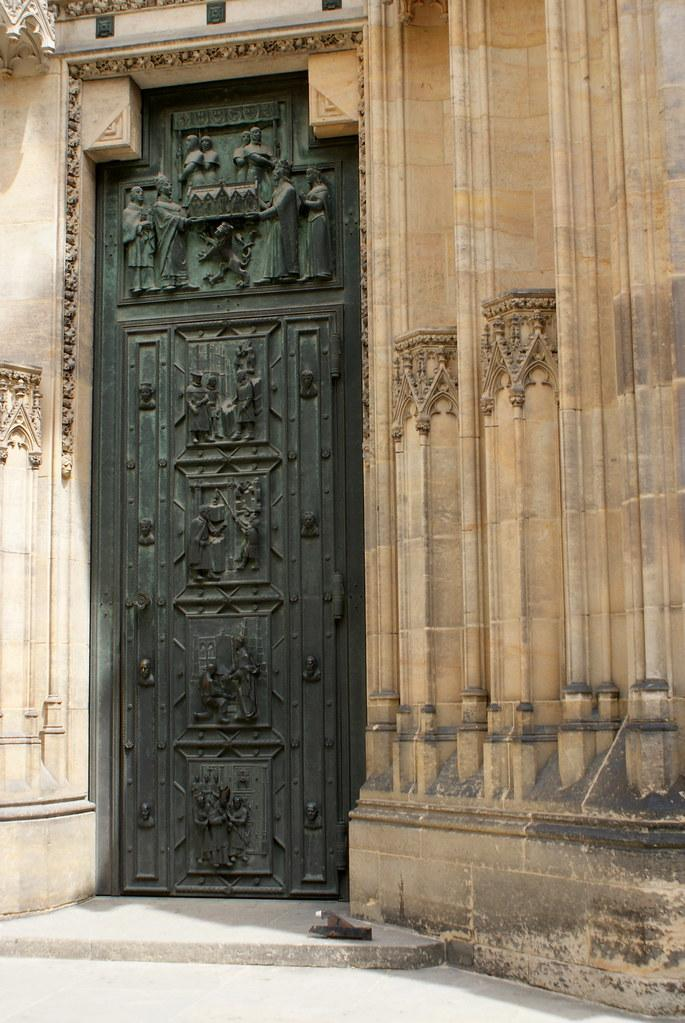door: (91, 70, 364, 902)
